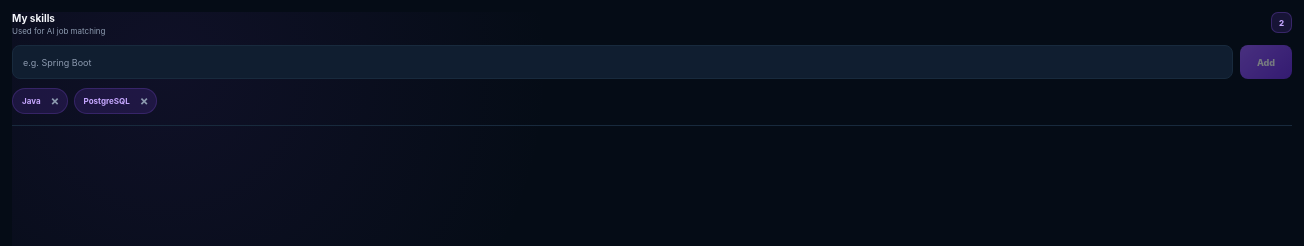
Test case: SkillsManager › loads skills and adds a new one
Expected: the text "Java" is shown, x1=22 y1=96 x2=40 y2=106
Type "Spring Boot" into the field named "Skill name". click: (622, 62)
box: x1=12 y1=45 x2=1233 y2=79
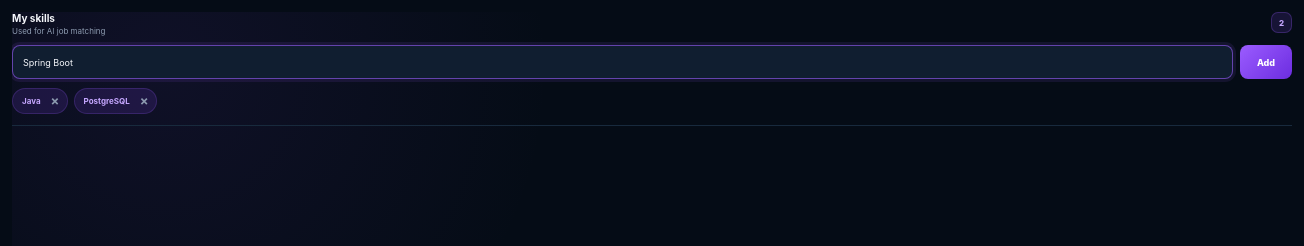
Click the button "Add". click: (1266, 62)
box: x1=1240 y1=45 x2=1292 y2=79
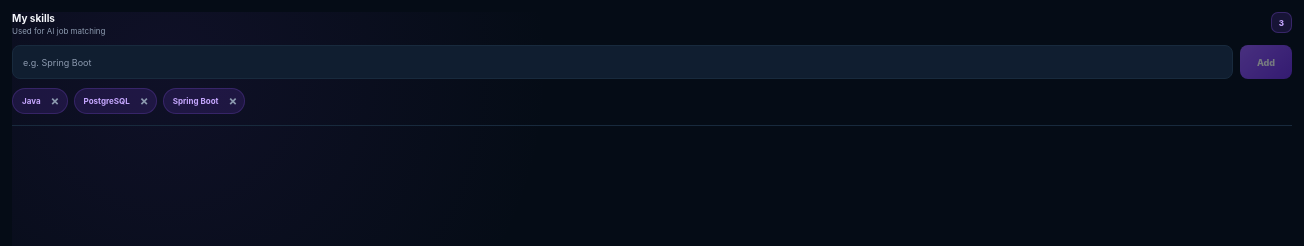
Expected: the text "Spring Boot" is shown, x1=173 y1=96 x2=218 y2=106
